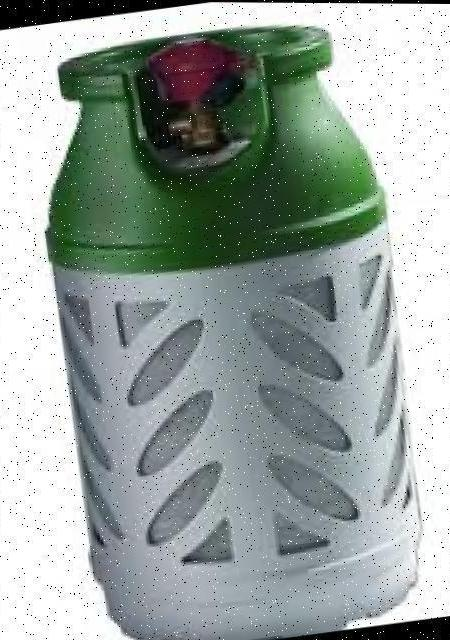cylinder: (1, 1, 450, 640)
